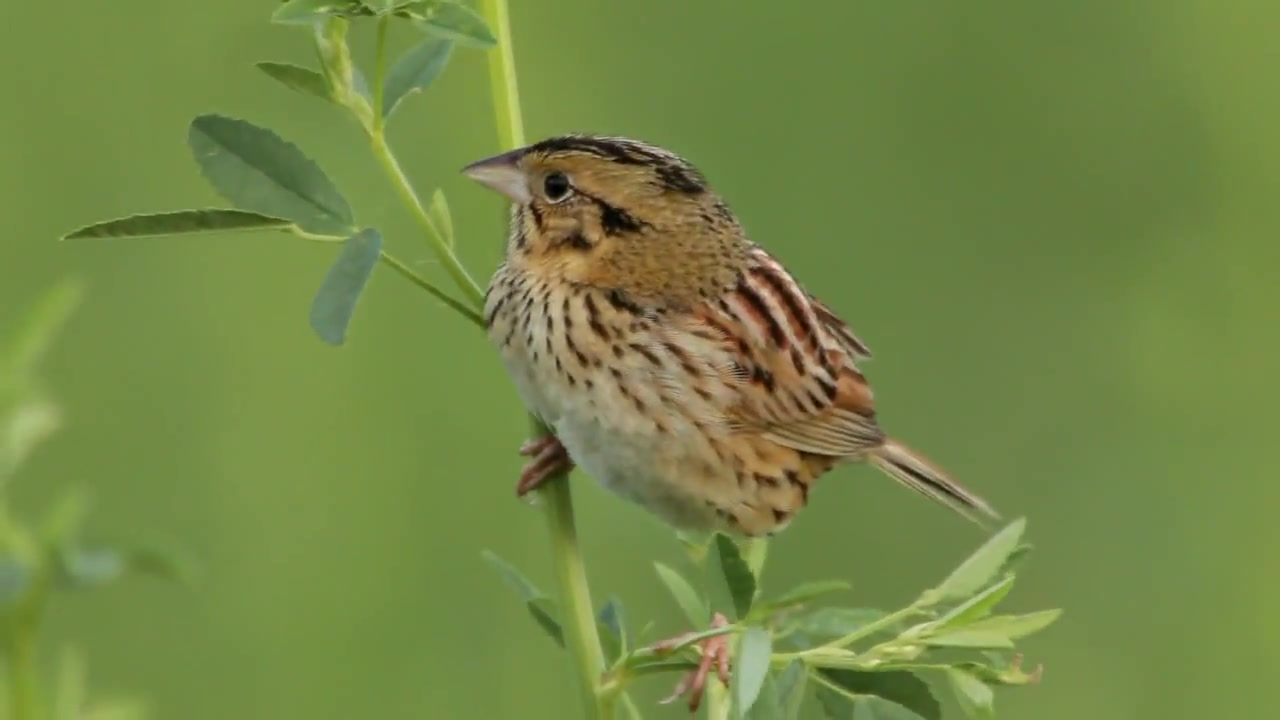bird: (459, 133, 1005, 714)
